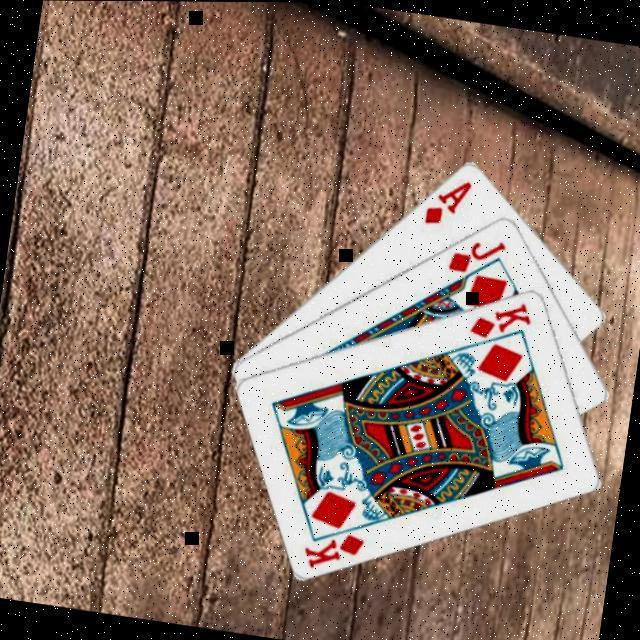AD: (422, 170, 478, 230)
JD: (446, 230, 510, 280)
KD: (466, 291, 538, 346), (300, 522, 370, 576)
